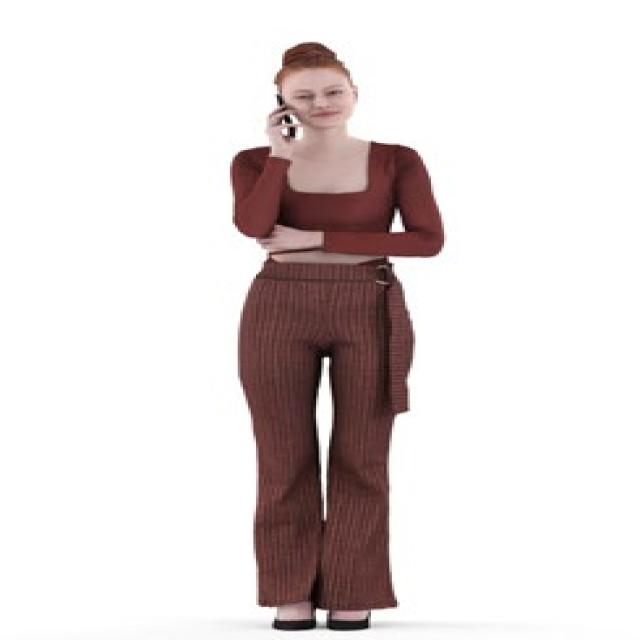standing: (223, 40, 447, 630)
